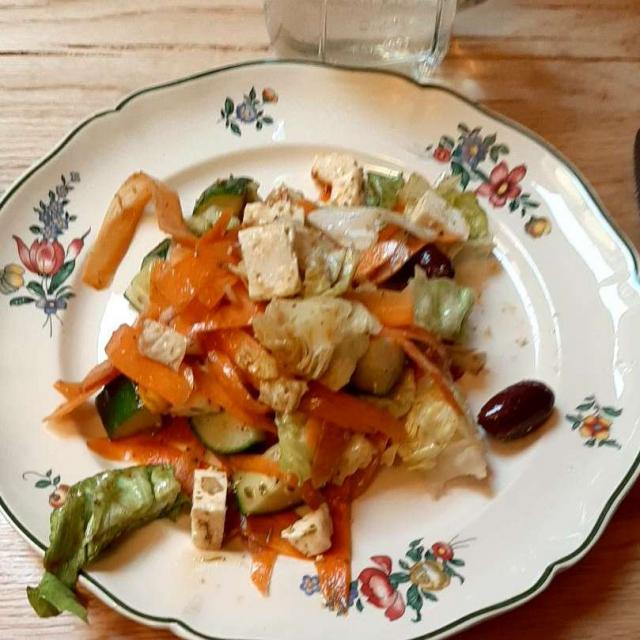black-olives: (485, 379, 563, 439), (482, 381, 553, 442)
carrot-raw: (75, 186, 465, 579)
cucumber: (89, 163, 412, 509), (189, 360, 269, 461)
salad-leaf-salad-green: (35, 168, 494, 611), (64, 173, 493, 613)
tofu: (184, 154, 364, 563)
